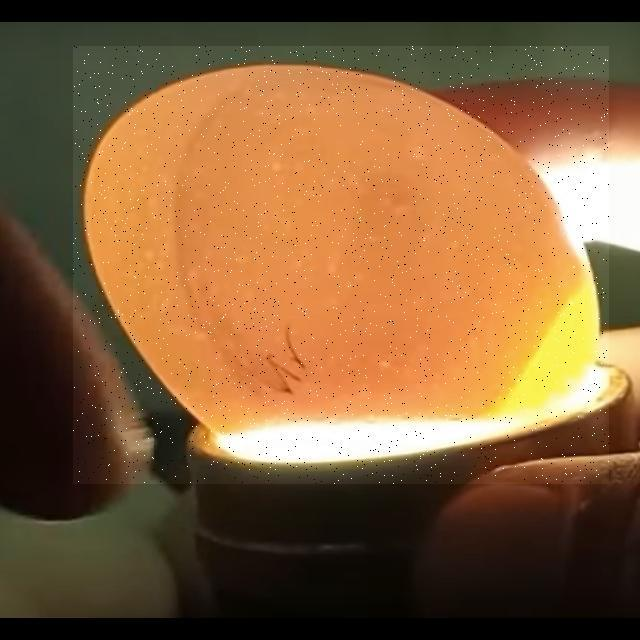Infertile: (73, 46, 609, 484)
